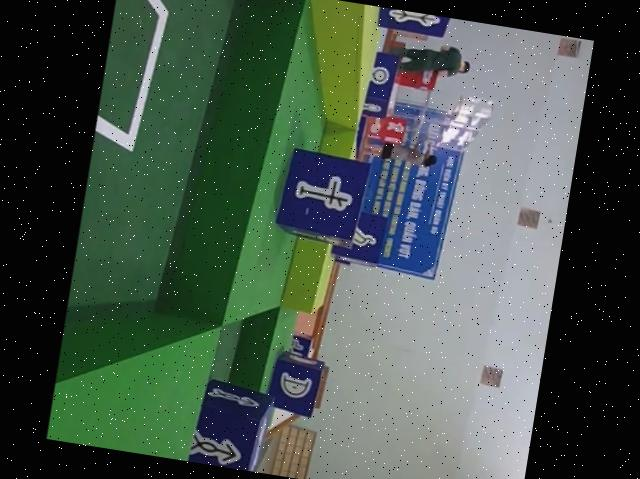R2 Real Blue: (273, 145, 372, 248), (185, 376, 276, 473), (265, 347, 327, 417), (328, 207, 390, 268), (361, 49, 402, 118)
